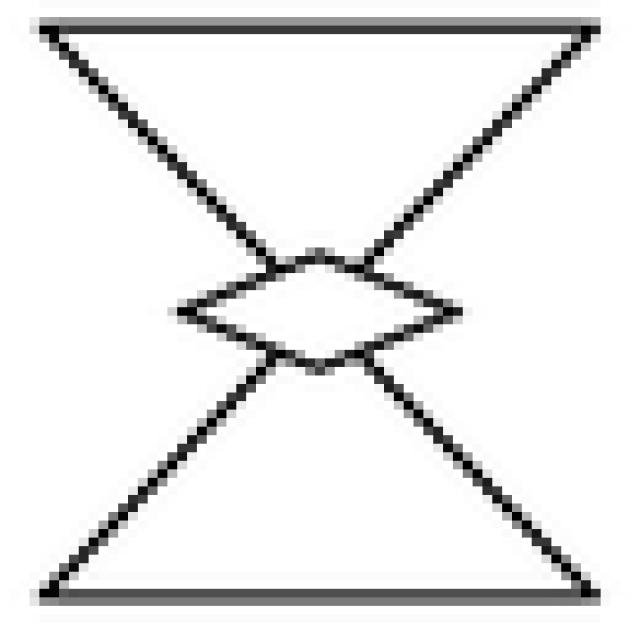Plug Valve: (45, 23, 596, 599)
